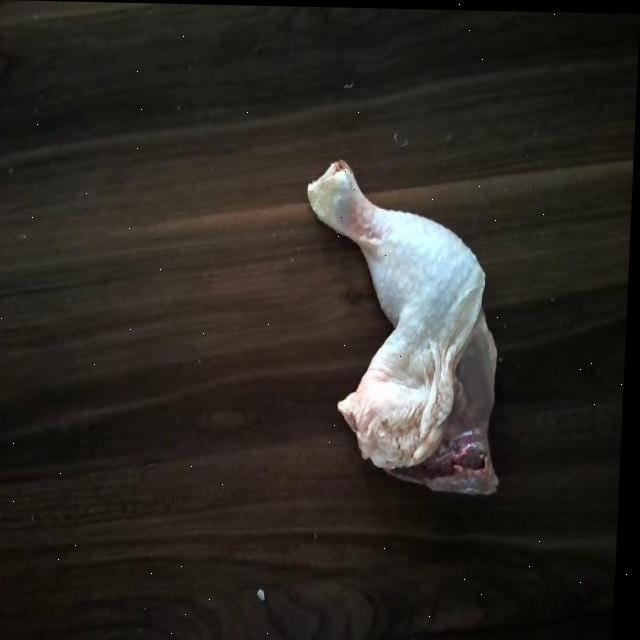quater: (294, 147, 512, 506)
